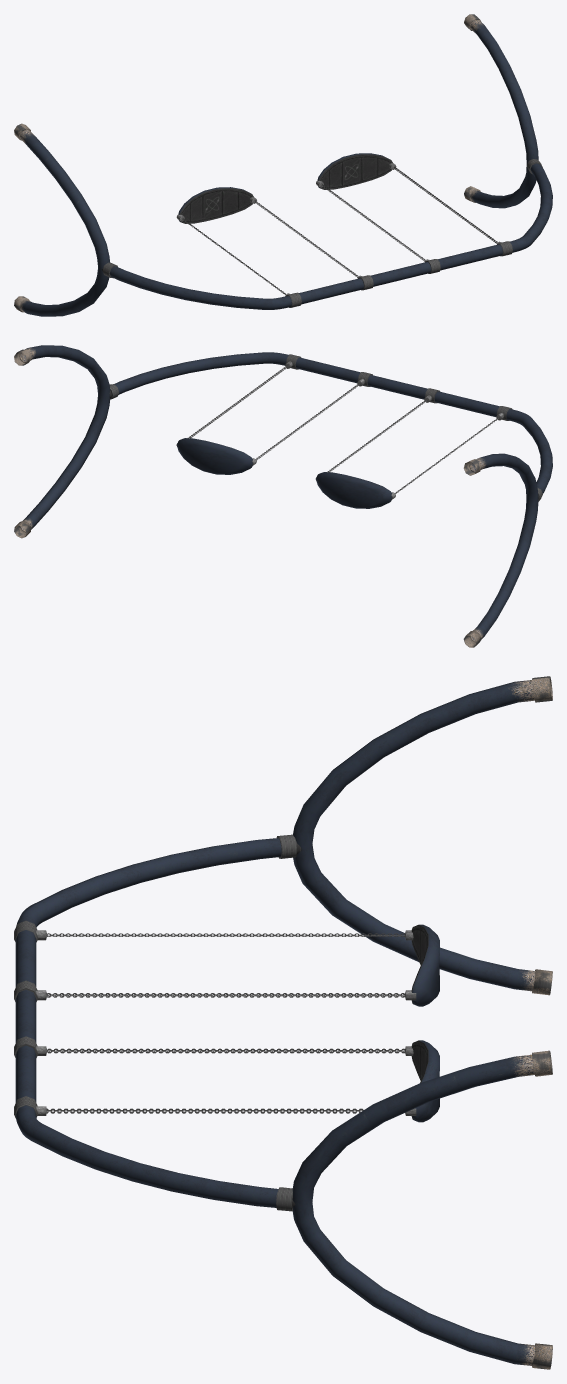
Rendered from nt_2020_swing_set_LOD0.obj.
3 renders of one model, top to bottom at view 1: azimuth 30°, elevation 25°; view 2: azimuth 150°, elevation 25°; view 3: azimuth 270°, elevation 25°, orthographic. The views are drawn at different scales.
Visible parts, largest first — view 1: mtl_nt_2020_swing_set_palette, mtl_nt_2020_swing_set_chain; view 2: mtl_nt_2020_swing_set_palette, mtl_nt_2020_swing_set_chain; view 3: mtl_nt_2020_swing_set_palette, mtl_nt_2020_swing_set_chain.
Part boxes in pixels (left/top/right/bottom): mtl_nt_2020_swing_set_palette: left=14, top=14, right=552, bottom=316; mtl_nt_2020_swing_set_chain: left=182, top=167, right=497, bottom=294; mtl_nt_2020_swing_set_palette: left=14, top=345, right=552, bottom=647; mtl_nt_2020_swing_set_chain: left=187, top=365, right=498, bottom=493; mtl_nt_2020_swing_set_palette: left=14, top=676, right=552, bottom=1369; mtl_nt_2020_swing_set_chain: left=47, top=933, right=404, bottom=1113.
Bounding box in the file's own units: 391 × 150 × 231.
